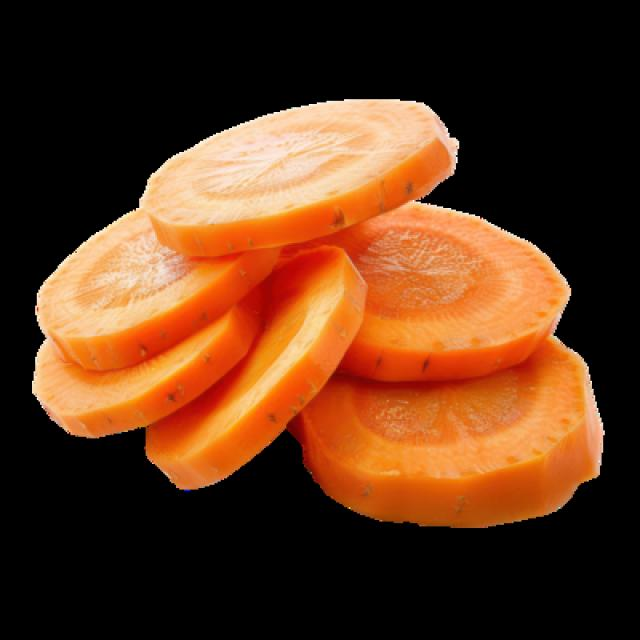ca rot: (32, 104, 602, 525)
